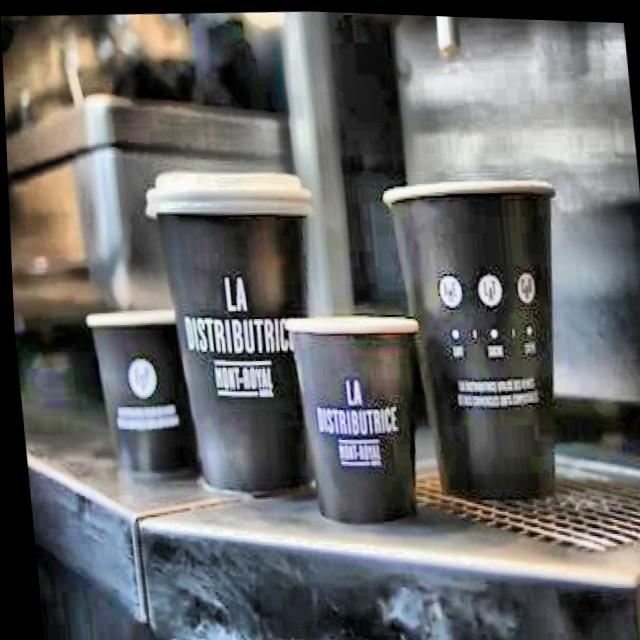Cup: (371, 160, 591, 513), (134, 159, 335, 519), (271, 282, 431, 534), (65, 296, 204, 491)
